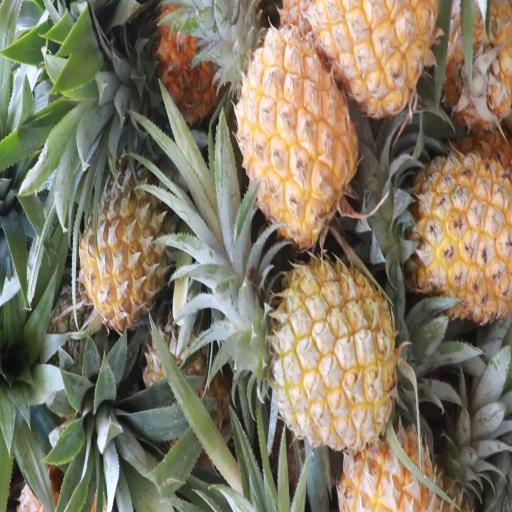Pineapple - v8 v1: (228, 28, 362, 249), (264, 257, 402, 459), (367, 143, 512, 316), (73, 143, 163, 333)
